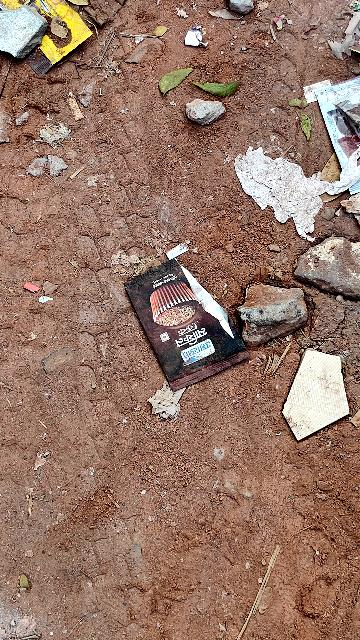packet: (127, 261, 256, 395), (32, 1, 110, 84)
